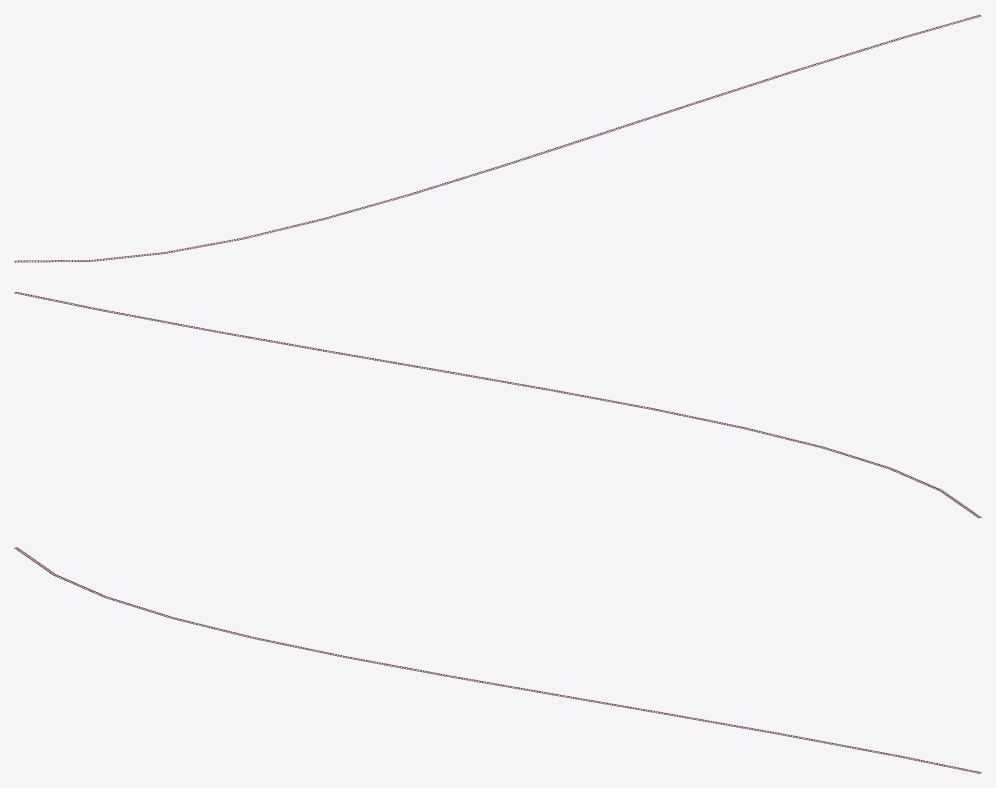
File: Track2.fbx
3 views of the same model, one above another, from view 1: azimuth 30°, elevation 25°; view 2: azimuth 150°, elevation 25°; view 3: azimuth 330°, elevation 25° (orthographic). The views are drawn at different scales.
Visible parts, largest first — view 1: Track; view 2: Track; view 3: Track.
Part boxes in pixels (x1,y1,x2,y2): Track: (14, 14, 981, 262); Track: (14, 291, 981, 518); Track: (14, 547, 981, 773).
Bounding box in the file's own units: 56023 × 26.61 × 4595.
